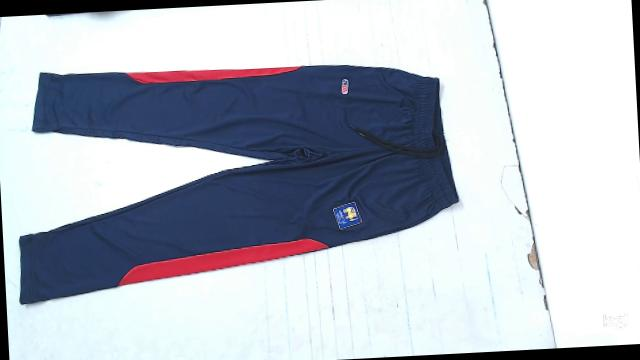new-garment: (19, 65, 458, 303)
